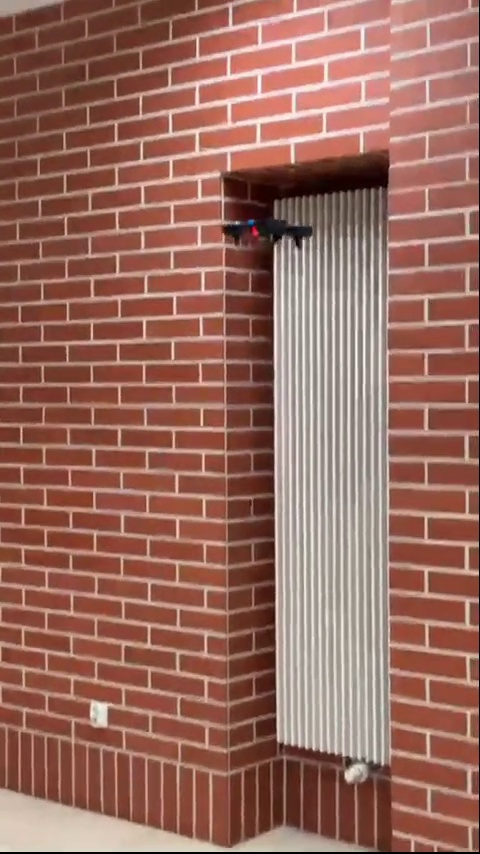drone: (213, 209, 314, 250)
